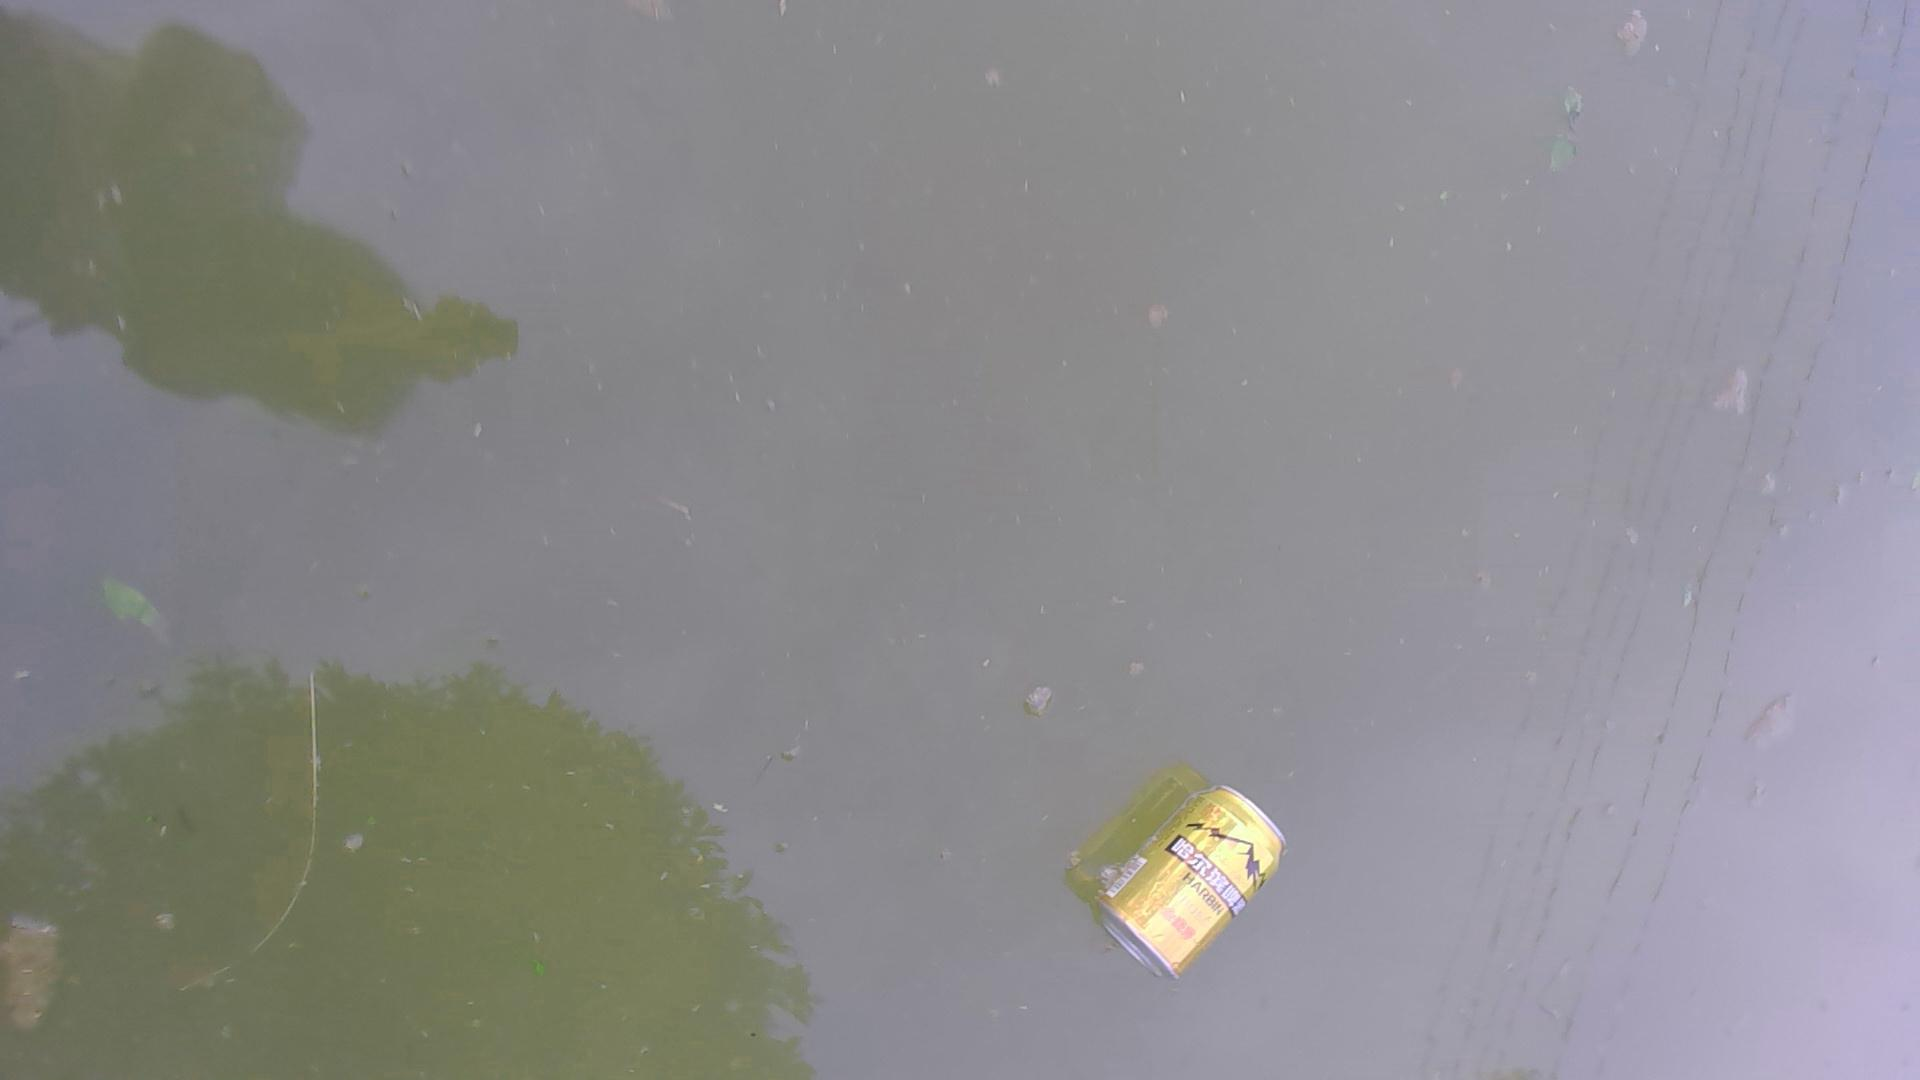Metal: (1083, 775, 1298, 985)
